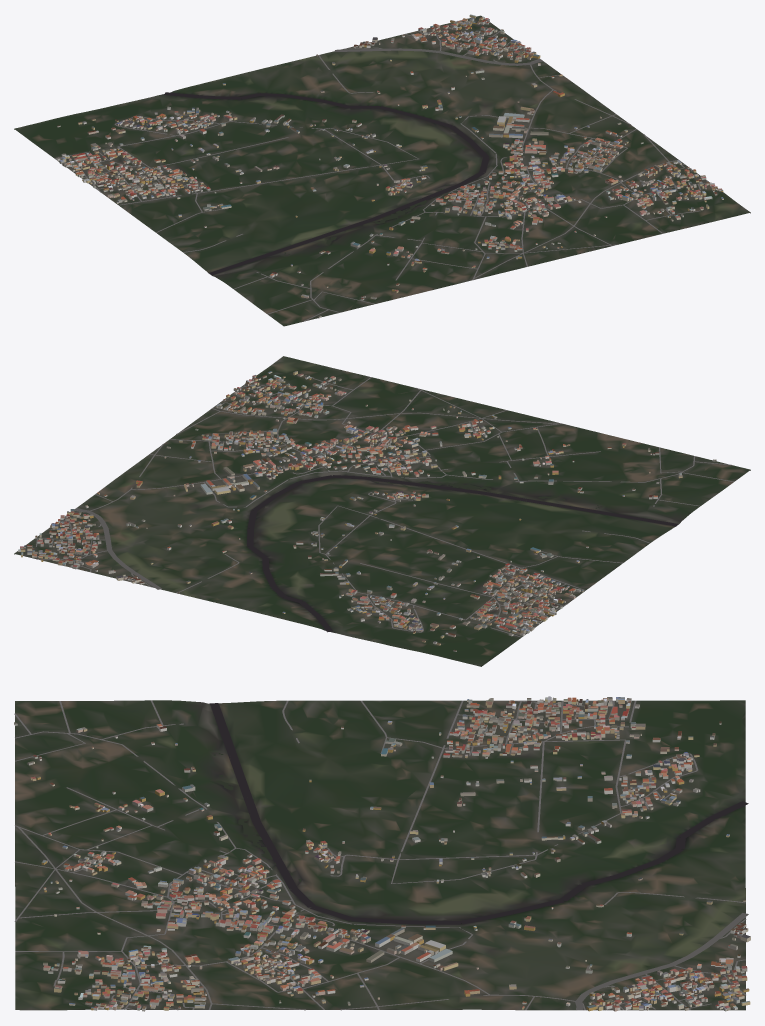
3 renders of one model, top to bottom at view 1: azimuth 30°, elevation 25°; view 2: azimuth 150°, elevation 25°; view 3: azimuth 270°, elevation 25°, orthographic. The views are drawn at different scales.
Parts seen in each view (by area): view 1: ground, buildings, roads, water; view 2: ground, buildings, roads, water; view 3: ground, buildings, roads, water.
Boxes of the visible parts, x1,y1,x2,y2 form: ground: (14, 15, 750, 326); buildings: (56, 14, 723, 318); roads: (54, 21, 707, 321); water: (164, 92, 489, 275); ground: (14, 356, 750, 666); buildings: (18, 371, 716, 651); roads: (34, 375, 733, 637); water: (247, 475, 678, 632); ground: (15, 700, 745, 1010); buildings: (14, 696, 750, 1011); roads: (14, 700, 748, 1010); water: (209, 703, 748, 924).
Bounding box in the file's own units: 1417 × 20.36 × 1414.
